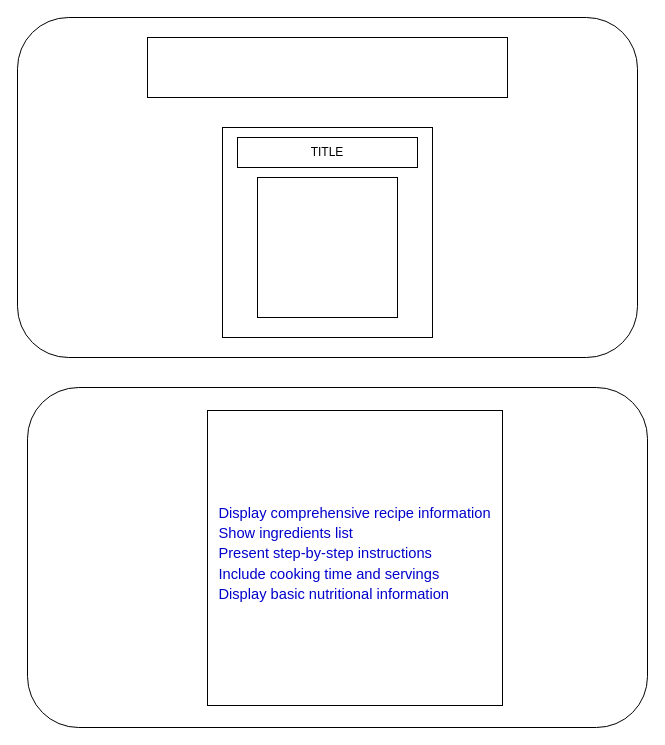
Image size: 665x745. Some labels were removed from this diagram. Each missing label, with the box of its shape:
IMAGE: (256, 176, 398, 318)
TYPE HERE: (146, 36, 508, 98)
